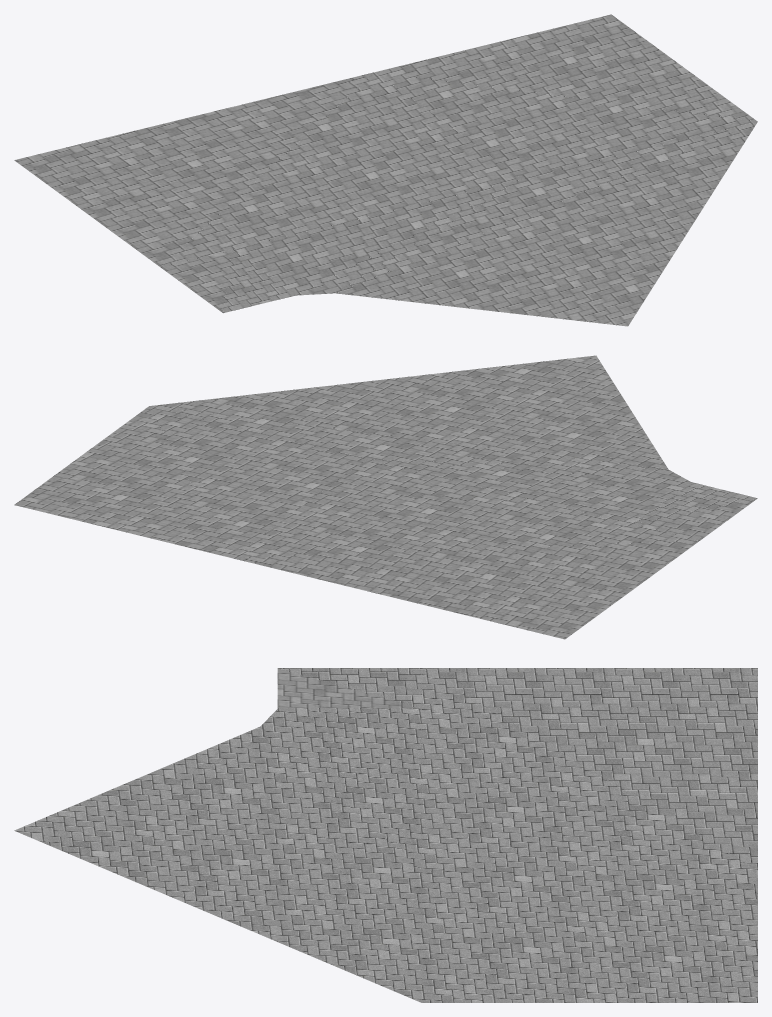
The model's file is ManzanaGrande.fbx.
3 renders of one model, top to bottom at view 1: azimuth 30°, elevation 25°; view 2: azimuth 150°, elevation 25°; view 3: azimuth 270°, elevation 25°, orthographic. The views are drawn at different scales.
Parts seen in each view (by area): view 1: 1CARRIL 1 ESTACIONAMIENTO TODO BIEN.111; view 2: 1CARRIL 1 ESTACIONAMIENTO TODO BIEN.111; view 3: 1CARRIL 1 ESTACIONAMIENTO TODO BIEN.111.
Boxes of the visible parts, left/top/right/bottom form: 1CARRIL 1 ESTACIONAMIENTO TODO BIEN.111: left=14, top=14, right=757, bottom=326; 1CARRIL 1 ESTACIONAMIENTO TODO BIEN.111: left=14, top=355, right=757, bottom=639; 1CARRIL 1 ESTACIONAMIENTO TODO BIEN.111: left=14, top=668, right=757, bottom=1002.
Size of the model in its own units: 16496 by 0 by 15493.
Materials: 1 (1 with a texture image).
